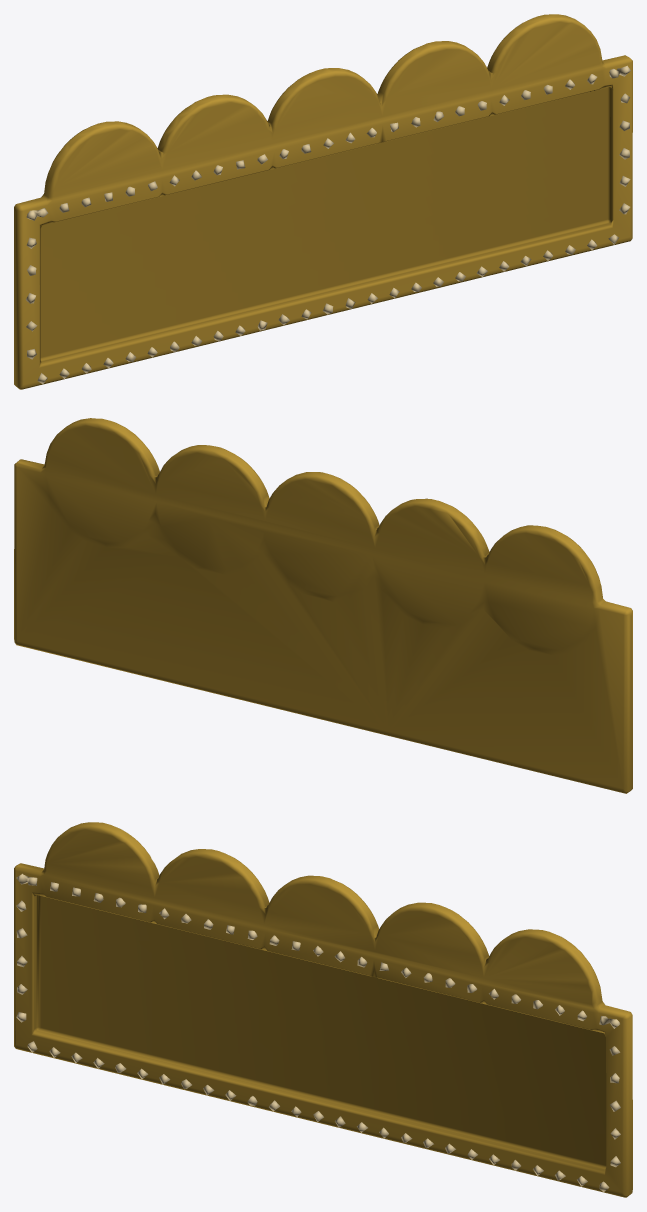
The model's file is lumiere-marquee.glb.
3 renders of one model, top to bottom at view 1: azimuth 30°, elevation 25°; view 2: azimuth 150°, elevation 25°; view 3: azimuth 330°, elevation 25°, orthographic.
Parts seen in each view (by area): view 1: lumiere-marquee_LOD0, lumiere-marquee-glow_LOD0; view 2: lumiere-marquee_LOD0; view 3: lumiere-marquee_LOD0, lumiere-marquee-glow_LOD0.
Part boxes in pixels (x1,y1,x2,y2): lumiere-marquee_LOD0: (14, 14, 632, 389); lumiere-marquee-glow_LOD0: (26, 65, 630, 383); lumiere-marquee_LOD0: (14, 418, 632, 793); lumiere-marquee_LOD0: (14, 822, 632, 1197); lumiere-marquee-glow_LOD0: (16, 873, 620, 1191).
Size of what is drawn, in the model's own units: 2.8 by 1.06 by 0.097.
